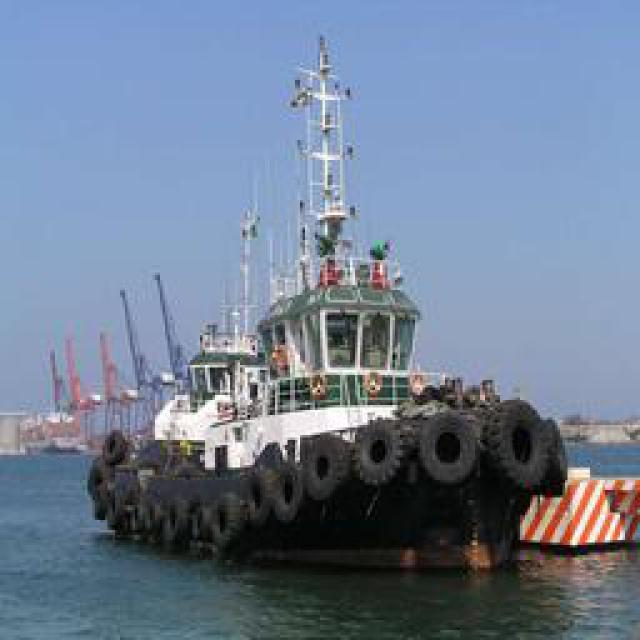Ship: (117, 1, 588, 564)
